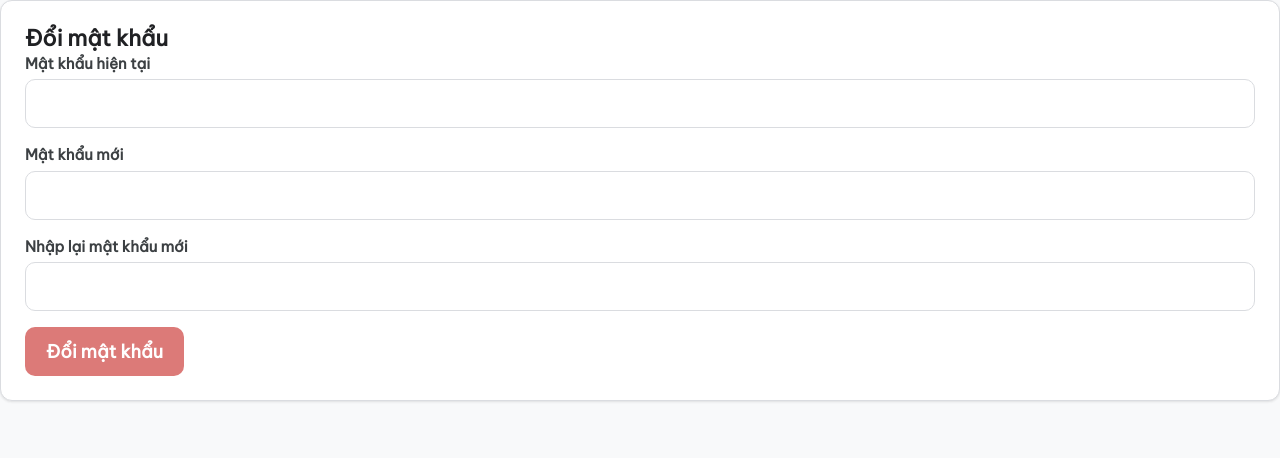
Test: 🔴 Chặn ở client trước khi chạm server › hai ô mật khẩu mới KHÔNG khớp → báo tại chỗ, nút vô hiệu, KHÔNG gọi API
Type "matkhautam123" into the password field labelled "Mật khẩu hiện tại".
click(640, 104); type("matkhautam123")  # box [25,79,1255,128]
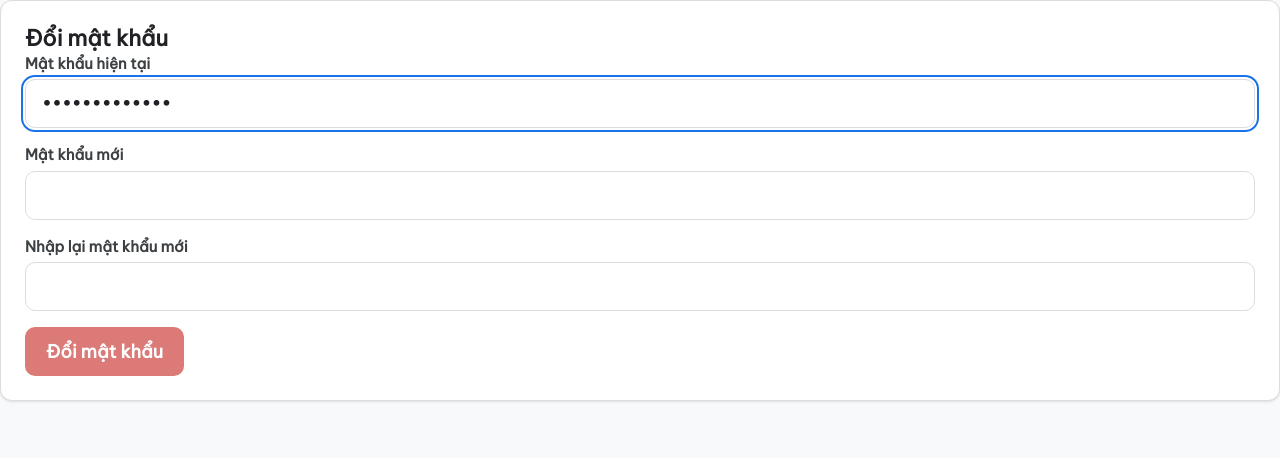
Type "matkhaurieng2026" into the password field labelled "Mật khẩu mới".
click(640, 195); type("matkhaurieng2026")  # box [25,170,1255,220]
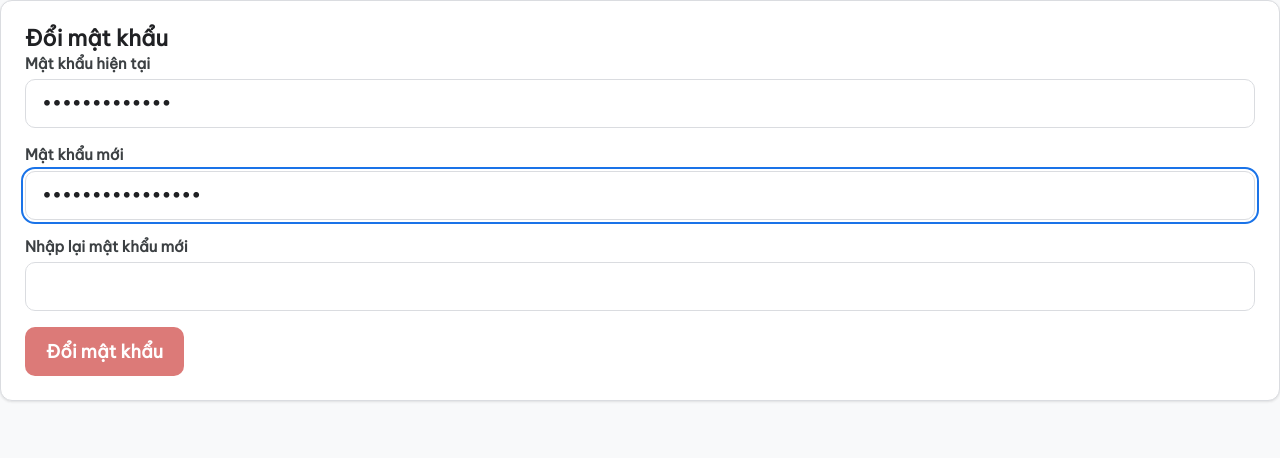
Type "matkhaugonhau999" into the password field labelled "Nhập lại mật khẩu mới".
click(640, 286); type("matkhaugonhau999")  # box [25,262,1255,311]
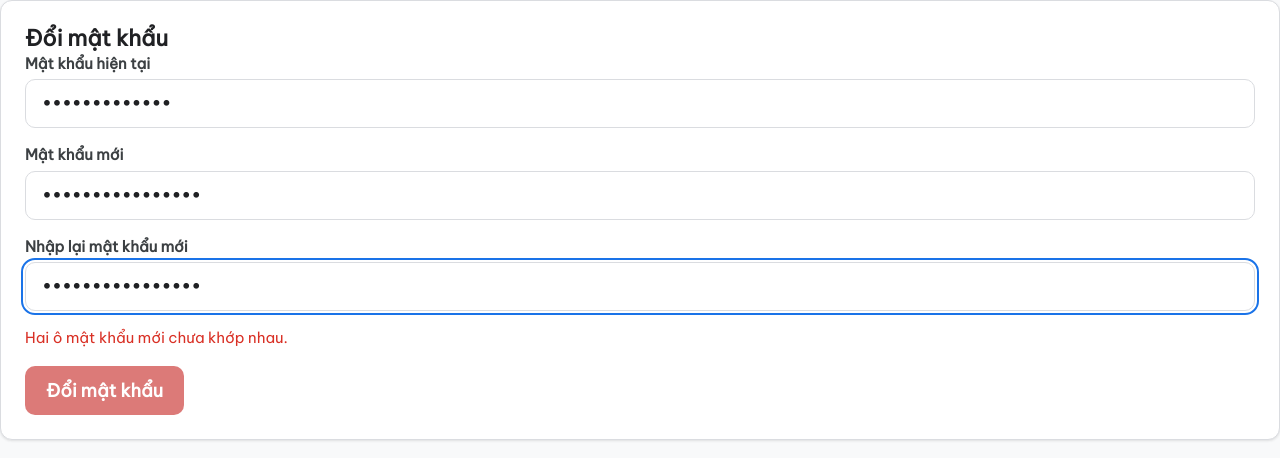
Check: the button "Đổi mật khẩu" is disabled, box [25,366,184,414]
Check: the text "Hai ô mật khẩu mới chưa khớp nhau." is shown, box [25,328,288,347]
